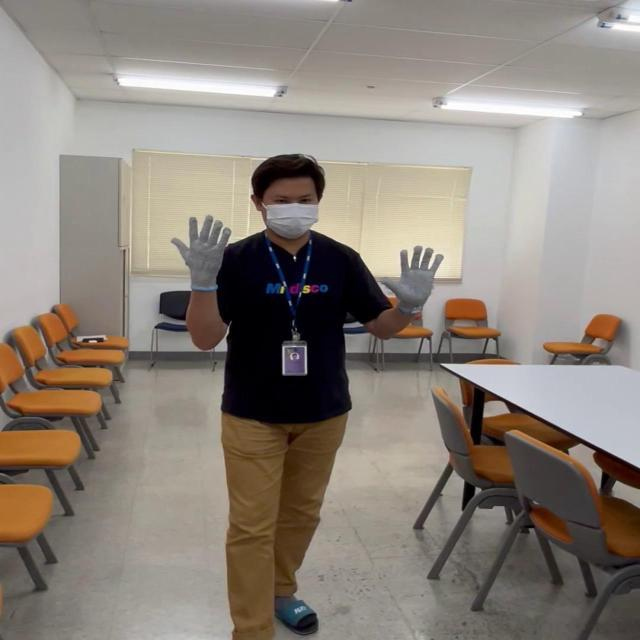gloved_hand: (173, 210, 232, 304), (372, 240, 444, 310)
